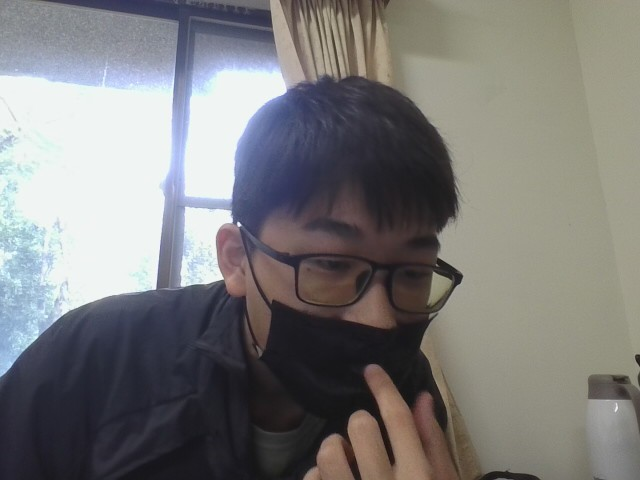No_Gloves: (283, 359, 540, 480)
No_Helmet: (224, 72, 461, 335)
person: (0, 62, 585, 480)
